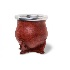guampa: (10, 12, 53, 60)
